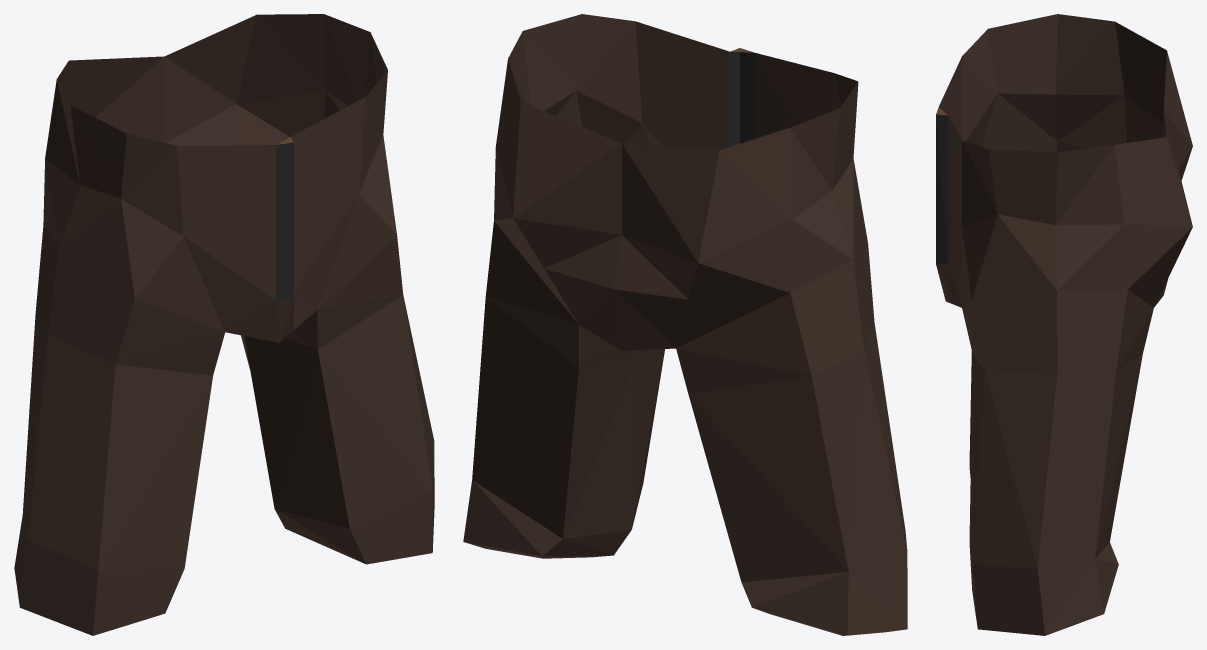
File: UncommonFarmerPants.dae
3 renders of one model, left to right at view 1: azimuth 30°, elevation 25°; view 2: azimuth 150°, elevation 25°; view 3: azimuth 270°, elevation 25°, orthographic. The views are drawn at different scales.
Parts seen in each view (by area): view 1: Pants; view 2: Pants; view 3: Pants.
Part boxes in pixels (<box>): Pants: <box>14,14,434,635</box>; Pants: <box>463,14,907,635</box>; Pants: <box>936,14,1192,635</box>.
Size of the model in its own units: 2.78 by 1.58 by 3.2.
